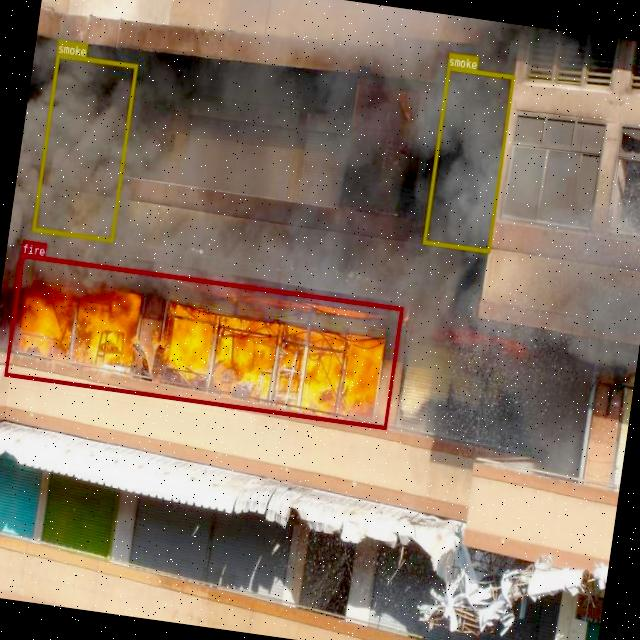fire: (4, 253, 403, 429)
smoke: (32, 52, 138, 242), (422, 66, 514, 252)
